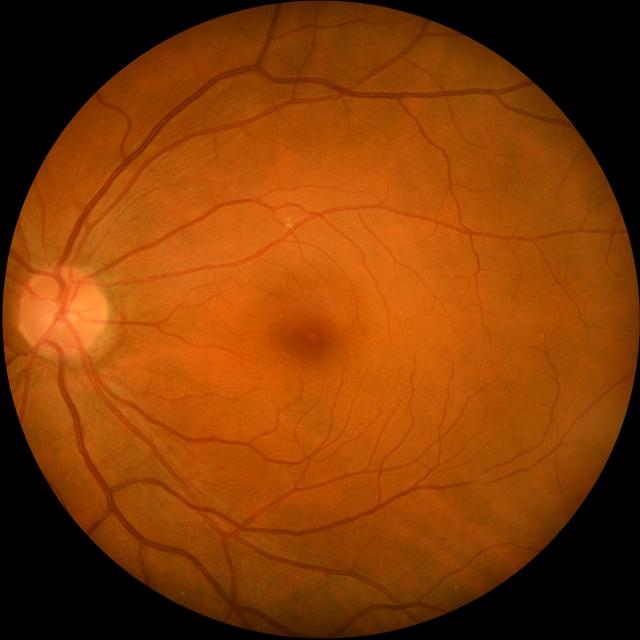OC: (48, 298, 78, 331)
OD: (18, 265, 107, 359)
